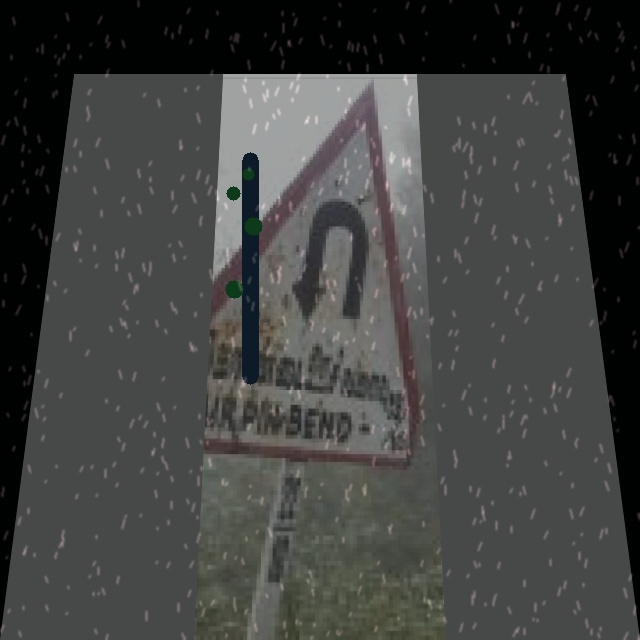Left_Hair_Pin_Bend: (265, 172, 412, 338)
